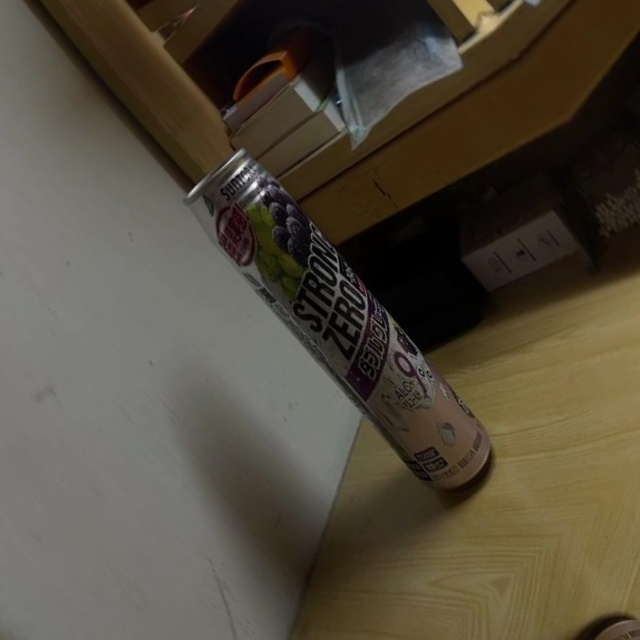Liquor: (177, 140, 509, 511)
